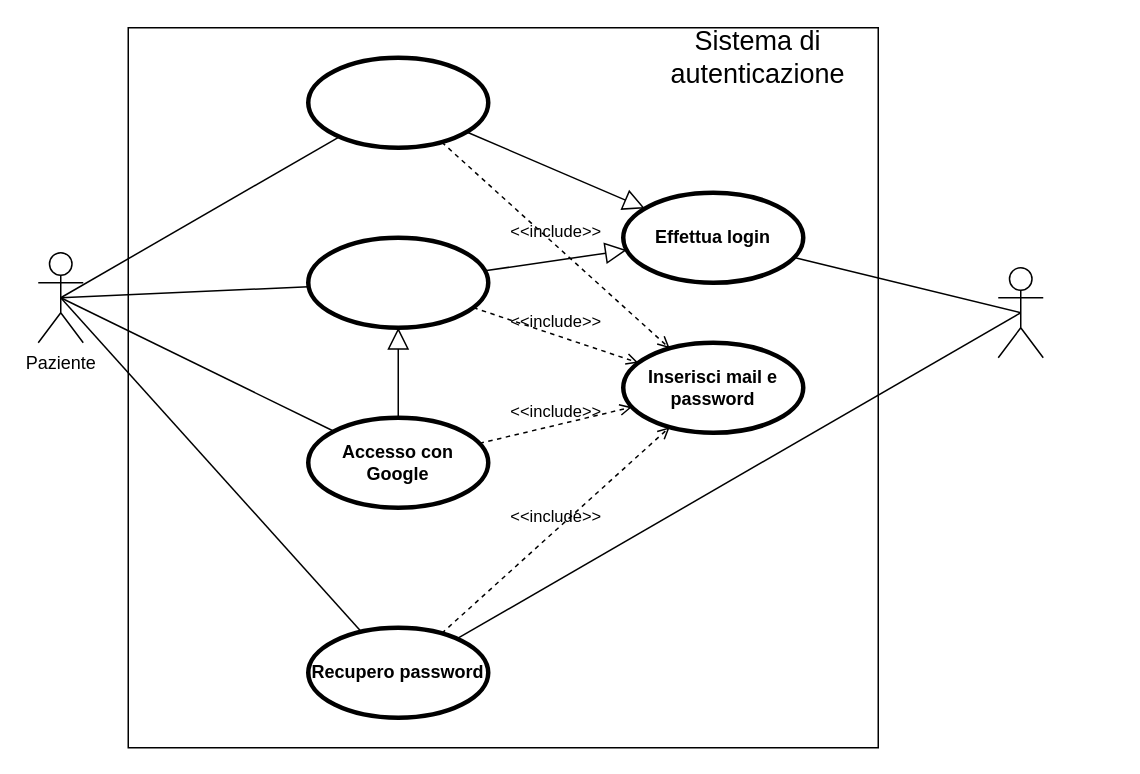
The diagram is 1140 pixels wide and 774 high, and some of its shapes have lost their labels. Here are the shapes that lost their labels. From the top down, the centre of each, then its label:
the point at 397,102: Registrazione
the point at 397,282: Accesso
the point at 1020,312: Firebase Authentication
